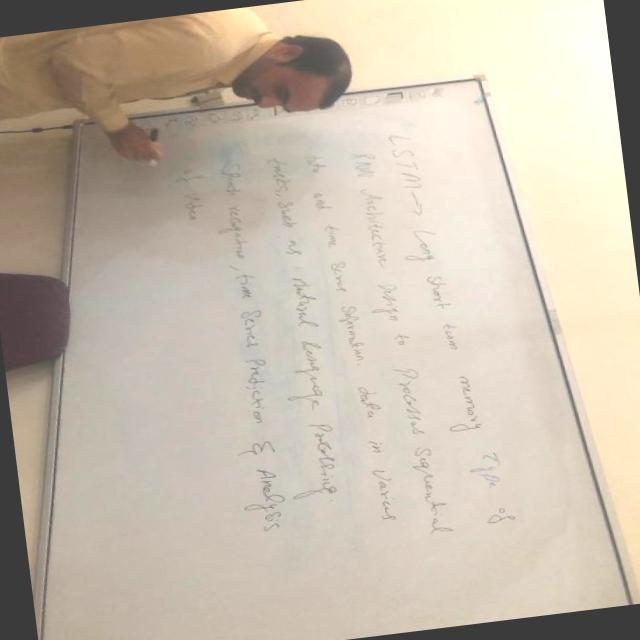Instructor: (0, 0, 366, 170)
White-board: (49, 79, 640, 640)
